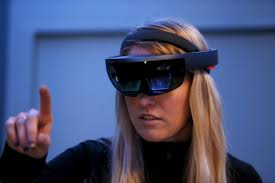hololens: (104, 49, 218, 97)
